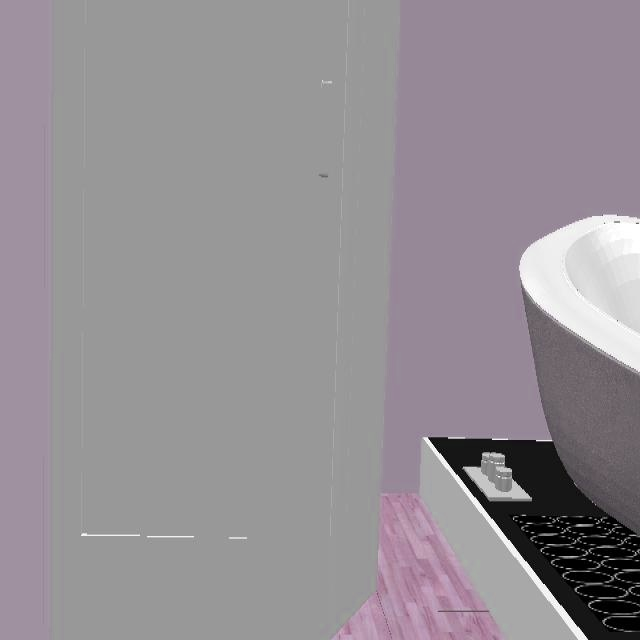bathtube: (518, 215, 640, 540)
shower: (46, 0, 402, 640)
